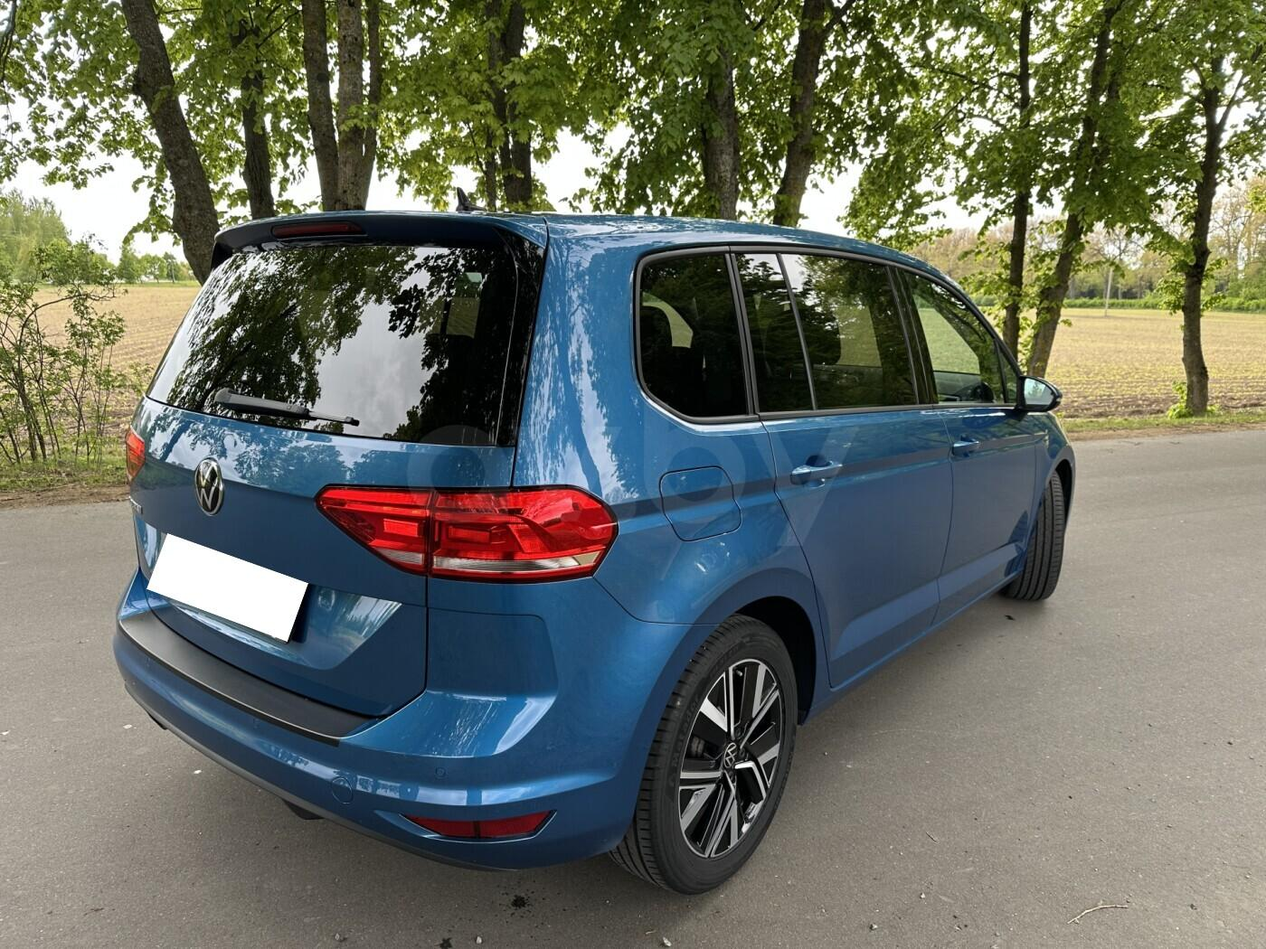Touran_2015: (109, 208, 1079, 893)
